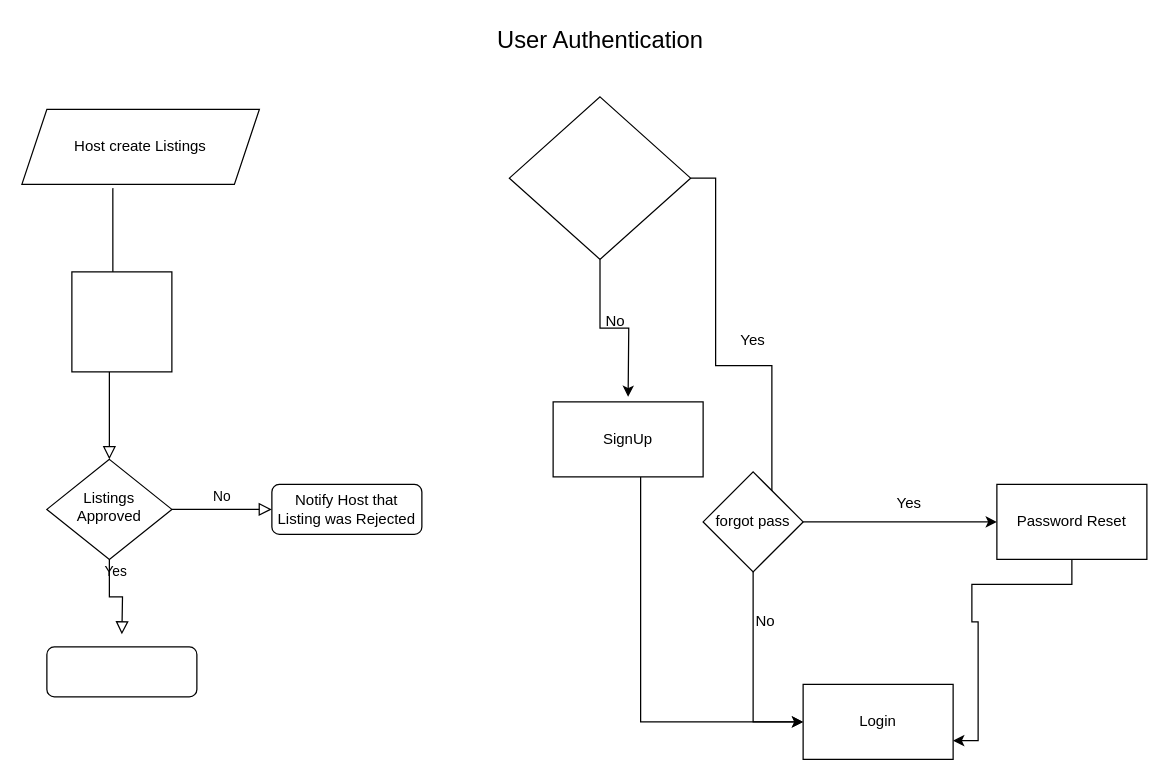
The diagram is 1169 pixels wide and 781 high, and some of its shapes have lost their labels. Here are the shapes that lost their labels. From the top down, the centre of each, then its label:
the point at 599,177: Does User have an account
the point at 121,321: Admin Reviews the Listings
the point at 121,671: Publish Listing
